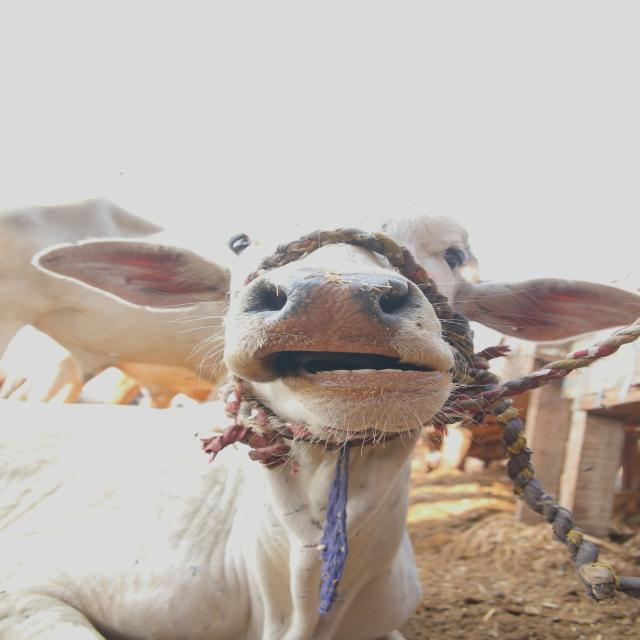muzzles: (239, 266, 428, 364)
